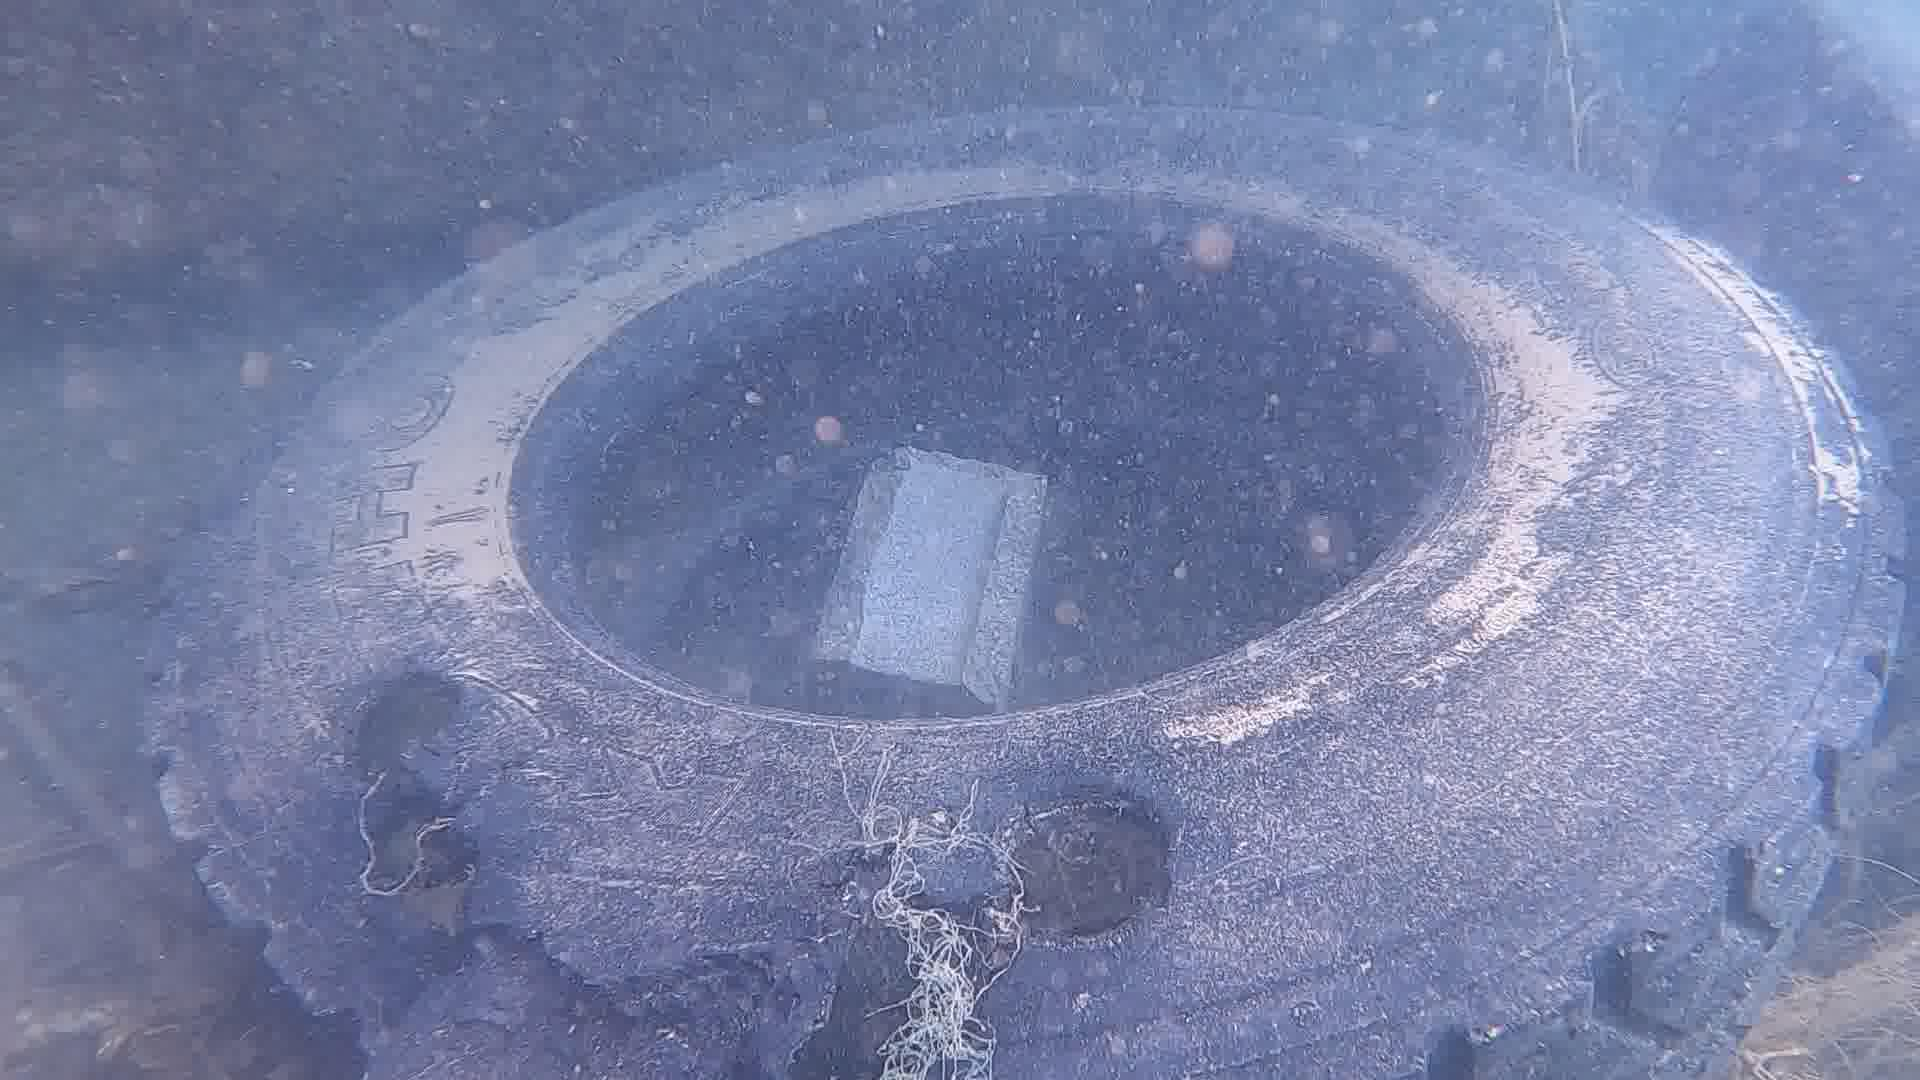tire: (135, 95, 1908, 1080)
